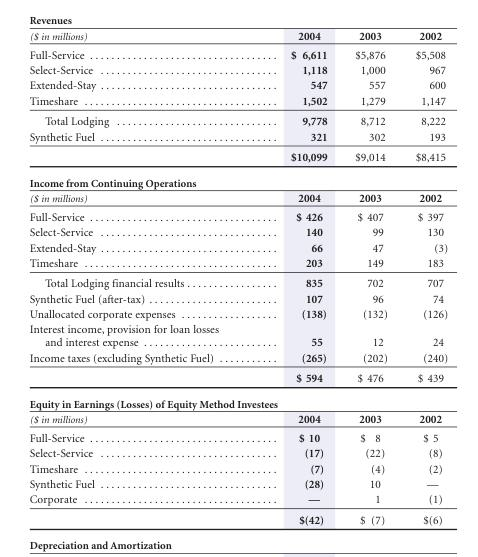table: (28, 29, 447, 525)
table column: (28, 29, 254, 525), (254, 29, 340, 525), (340, 29, 400, 525), (400, 29, 447, 525)
table column header: (28, 29, 447, 44)
table projected row header: (28, 169, 447, 189), (28, 390, 447, 410)
table row: (28, 321, 447, 349), (28, 146, 447, 169), (28, 367, 447, 390), (28, 169, 447, 189), (28, 390, 447, 410), (28, 44, 447, 62), (28, 92, 447, 110), (28, 110, 447, 128), (28, 128, 447, 146), (28, 189, 447, 207), (28, 254, 447, 272), (28, 272, 447, 290), (28, 349, 447, 367), (28, 410, 447, 428), (28, 491, 447, 509), (28, 207, 447, 224), (28, 428, 447, 445), (28, 290, 447, 306), (28, 475, 447, 491), (28, 509, 447, 525), (28, 29, 447, 44), (28, 62, 447, 77), (28, 77, 447, 92), (28, 224, 447, 239), (28, 239, 447, 254), (28, 306, 447, 321), (28, 445, 447, 460), (28, 460, 447, 475)
